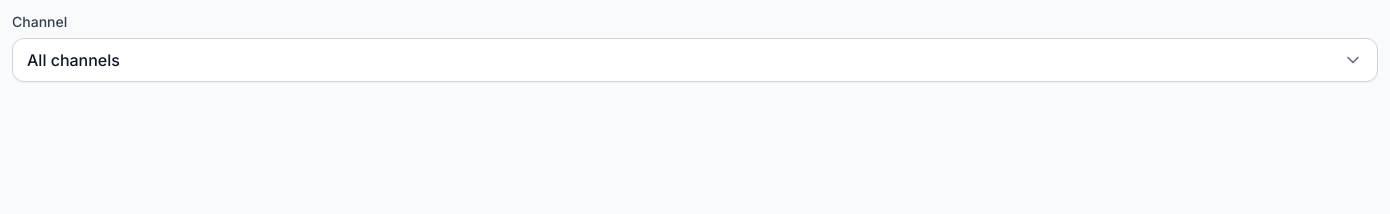
Test: Select › opens, lists options, and notifies on change
Later steps or results of the test are not shown.
Step 1. Click the button "All channels" → (73, 60), box [12, 38, 1378, 82]
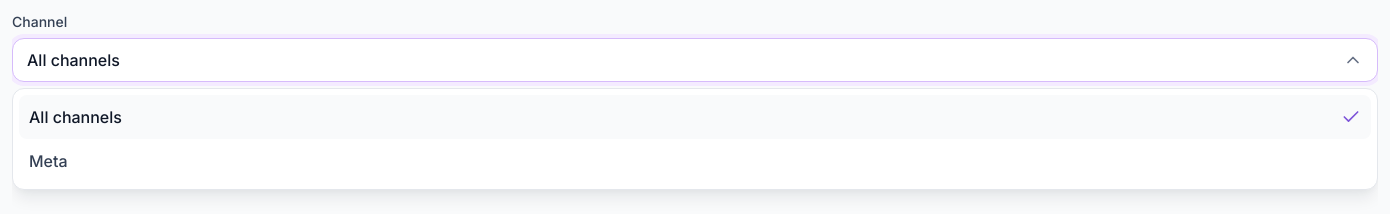
Now the list is shown, box [12, 88, 1378, 190]
